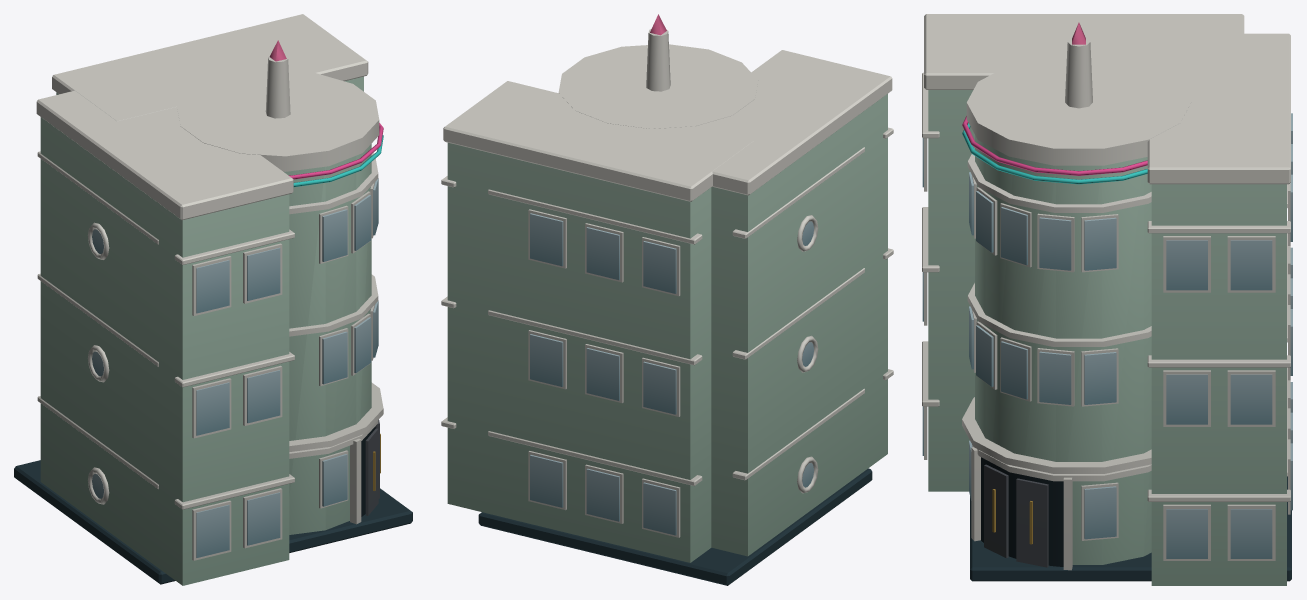
The model's file is deco-hotel-corner-curve.glb.
The picture shows the model from 3 angles, left to right: view 1: azimuth 30°, elevation 25°; view 2: azimuth 150°, elevation 25°; view 3: azimuth 270°, elevation 25°; orthographic projection. The views are drawn at different scales.
Visible parts, largest first — view 1: deco_hotel_corner_curve; view 2: deco_hotel_corner_curve; view 3: deco_hotel_corner_curve.
Boxes of the visible parts, <box> form: deco_hotel_corner_curve: <box>14,14,412,585</box>; deco_hotel_corner_curve: <box>441,14,893,585</box>; deco_hotel_corner_curve: <box>922,14,1292,585</box>.
Size of the model in its own units: 7.12 by 10.92 by 7.13.
